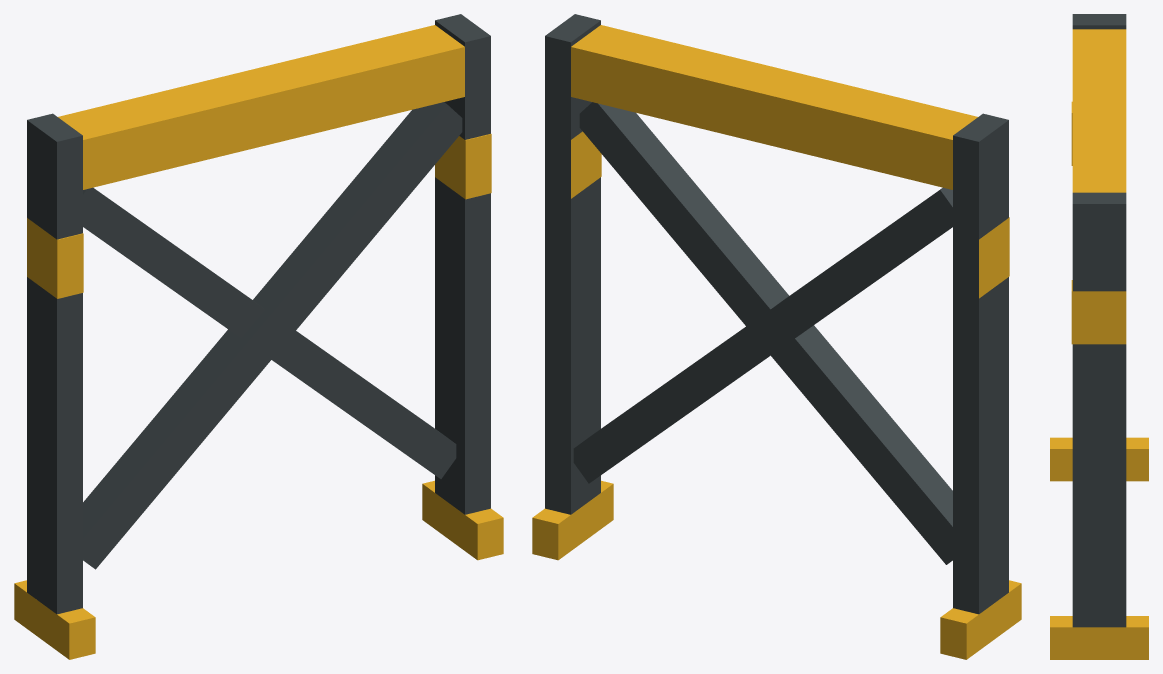
File: safety_railing_1x1.glb
The picture shows the model from 3 angles, left to right: view 1: azimuth 30°, elevation 25°; view 2: azimuth 150°, elevation 25°; view 3: azimuth 270°, elevation 25°; orthographic projection. The views are drawn at different scales.
Parts seen in each view (by area): view 1: Top safety rail, Front rising crossbar, Half edge post, Half edge post.001, Rear falling crossbar, Half post foot.001, Half post foot, Safety post band, Safety post band.001; view 2: Top safety rail, Front rising crossbar, Half edge post, Half edge post.001, Rear falling crossbar, Half post foot.001, Half post foot, Safety post band, Safety post band.001; view 3: Half edge post.001, Top safety rail, Half post foot.001, Safety post band.001, Half post foot, Half edge post.
Part boxes in pixels (left/top/right/bottom): Top safety rail: left=58, top=25, right=464, bottom=189; Front rising crossbar: left=83, top=102, right=462, bottom=569; Half edge post: left=27, top=113, right=82, bottom=614; Half edge post.001: left=435, top=14, right=490, bottom=514; Rear falling crossbar: left=83, top=187, right=456, bottom=478; Half post foot.001: left=422, top=480, right=503, bottom=560; Half post foot: left=14, top=580, right=95, bottom=659; Safety post band: left=27, top=218, right=83, bottom=298; Safety post band.001: left=435, top=134, right=491, bottom=199; Top safety rail: left=571, top=25, right=977, bottom=189; Front rising crossbar: left=579, top=102, right=952, bottom=564; Half edge post: left=953, top=113, right=1008, bottom=614; Half edge post.001: left=545, top=14, right=600, bottom=514; Rear falling crossbar: left=573, top=187, right=952, bottom=483; Half post foot.001: left=532, top=480, right=613, bottom=560; Half post foot: left=940, top=580, right=1021, bottom=659; Safety post band: left=979, top=217, right=1009, bottom=298; Safety post band.001: left=571, top=131, right=601, bottom=198; Half edge post.001: left=1072, top=192, right=1126, bottom=627; Top safety rail: left=1072, top=29, right=1126, bottom=192; Half post foot.001: left=1050, top=616, right=1148, bottom=659; Safety post band.001: left=1071, top=280, right=1126, bottom=344; Half post foot: left=1050, top=437, right=1148, bottom=481; Half edge post: left=1072, top=14, right=1126, bottom=29.
Bounding box in the file's own units: 1 × 1.12 × 0.22.
